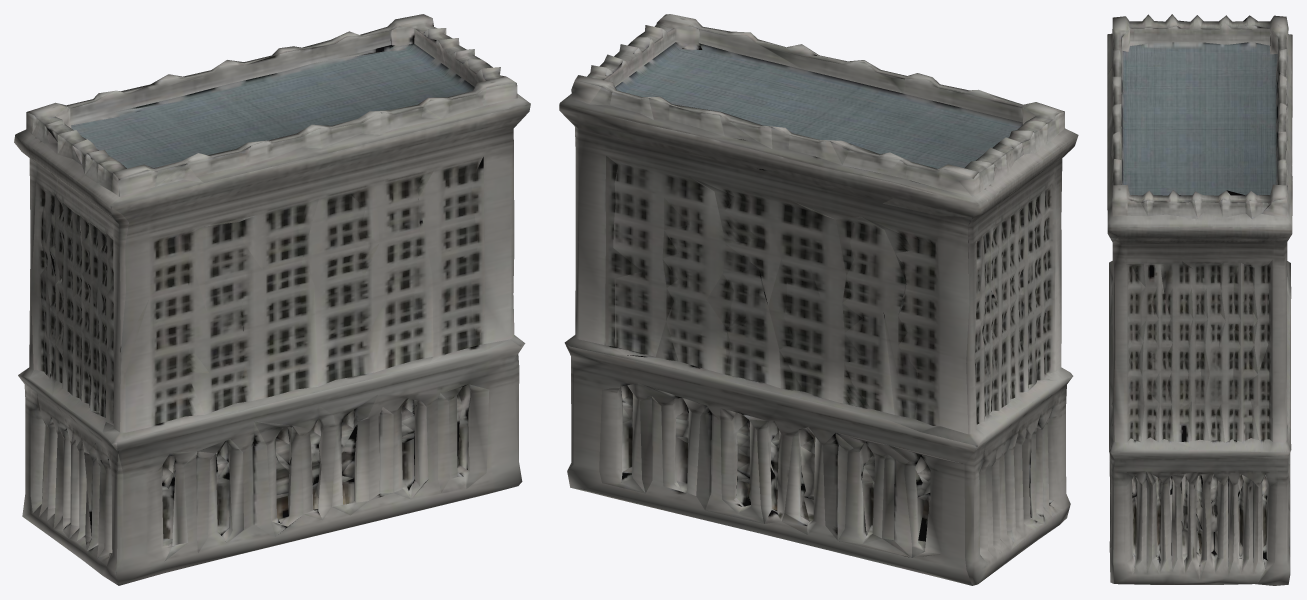
The model's file is northern_trust_50_s_lasalle.glb.
The picture shows the model from 3 angles, left to right: view 1: azimuth 30°, elevation 25°; view 2: azimuth 150°, elevation 25°; view 3: azimuth 270°, elevation 25°; orthographic projection. The views are drawn at different scales.
Parts seen in each view (by area): view 1: northern_trust_50_s_lasalle; view 2: northern_trust_50_s_lasalle; view 3: northern_trust_50_s_lasalle.
Part boxes in pixels (x1=…): northern_trust_50_s_lasalle: x1=14, y1=14, x2=530, y2=585; northern_trust_50_s_lasalle: x1=559, y1=14, x2=1078, y2=585; northern_trust_50_s_lasalle: x1=1107, y1=14, x2=1292, y2=585.
Bounding box in the file's own units: 57 × 53 × 23.
1 material, 1 textured.
